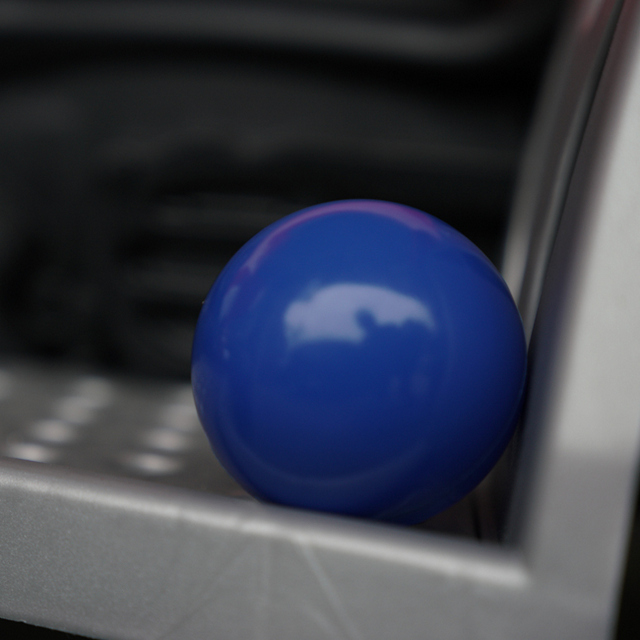Ball: (190, 198, 531, 525)
